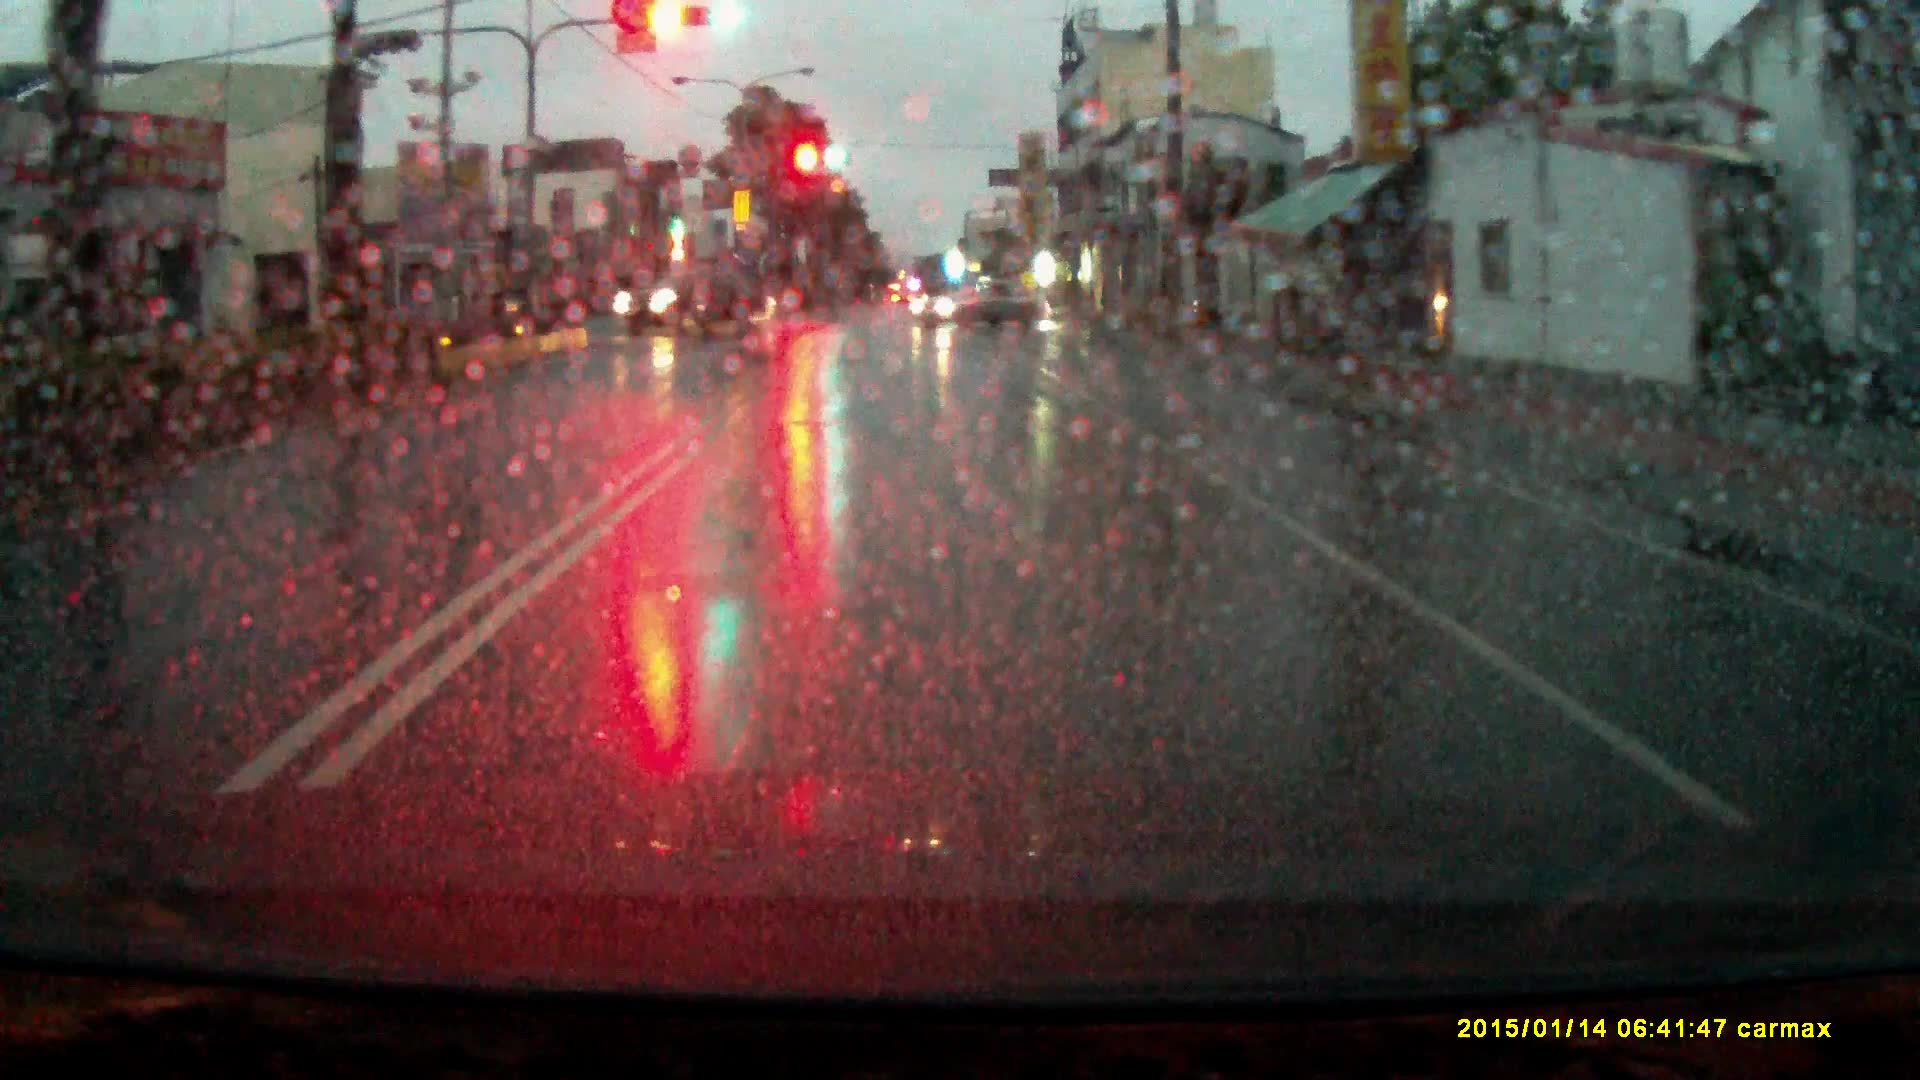vehicle: (615, 274, 779, 348), (903, 290, 1050, 340)
